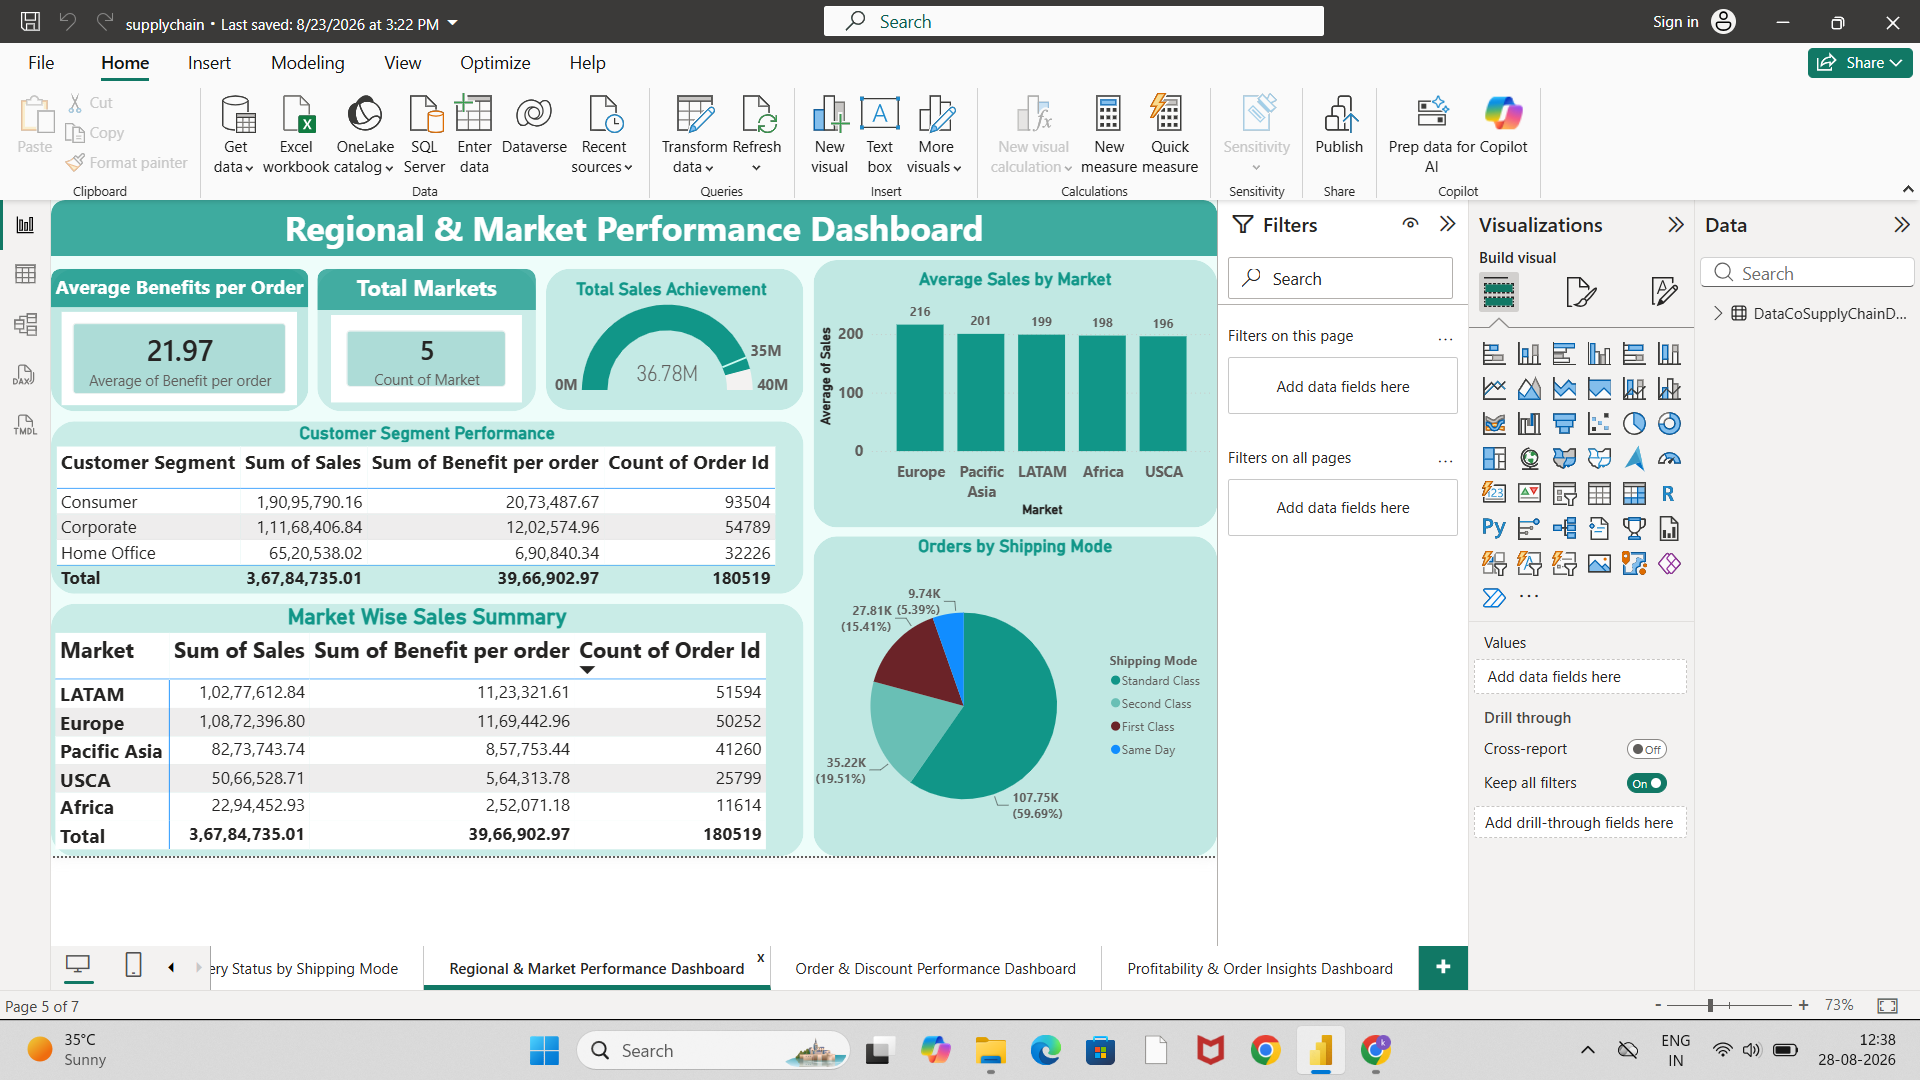

Layout of this report page (visuals, bound fields, positions):
{"tool":"powerbi","page":{"name":"Regional & Market Performance Dashboard","canvas":[1280,720],"ordinal":4},"visuals":[{"type":"shape","box":[0,75.5,282.7,156.4],"z":0},{"type":"shape","box":[0,0,1280.3,61.7],"z":1000},{"type":"textbox","box":[0,0,1280.3,61.7],"z":2000},{"type":"shape","box":[0,75.5,282.7,42.5],"z":3000},{"type":"textbox","box":[0,75.5,282.7,42.5],"z":4000},{"type":"shape","box":[292.3,75.5,240.1,156.4],"z":5000},{"type":"shape","box":[292.3,75.5,240.1,45.3],"z":6000},{"type":"textbox","box":[292.3,75.5,240.1,45.3],"z":7000},{"type":"shape","box":[543.4,75.5,282.7,155.1],"z":8000},{"type":"cardVisual","fields":{"Data":["Avg(DataCoSupplyChainDataset.Benefit per order)"]},"box":[6.9,118,269,112.5],"z":9000},{"type":"cardVisual","fields":{"Data":["Count(DataCoSupplyChainDataset.Market)"]},"box":[307.4,126.2,209.9,96.1],"z":10000},{"type":"gauge","title":"Total Sales Achievement","fields":{"MaxValue":["DataCoSupplyChainDataset.Sales Maximum"],"MinValue":["DataCoSupplyChainDataset.Sales Minimum"],"TargetValue":["DataCoSupplyChainDataset.Sales Target"],"Y":["Sum(DataCoSupplyChainDataset.Sales)"]},"box":[543.4,86.4,275.8,134.5],"z":11000},{"type":"shape","box":[837.1,65.9,443.2,293.7],"z":12000},{"type":"clusteredColumnChart","title":"Average Sales by Market","fields":{"Category":["DataCoSupplyChainDataset.Market"],"Y":["Avg(DataCoSupplyChainDataset.Sales)"]},"box":[837.1,75.5,443.2,277.2],"z":13000},{"type":"shape","box":[837.1,369.1,443.2,351.3],"z":14000},{"type":"pieChart","title":"Orders by Shipping Mode","fields":{"Category":["DataCoSupplyChainDataset.Shipping Mode"],"Y":["CountNonNull(DataCoSupplyChainDataset.Order Id)"]},"box":[837.1,369.1,443.2,351.3],"z":15000},{"type":"shape","box":[0,242.9,826.1,189.4],"z":16000},{"type":"shape","box":[0,443.2,826.1,277.2],"z":17000},{"type":"tableEx","title":"Customer Segment Performance","fields":{"Values":["DataCoSupplyChainDataset.Customer Segment","Sum(DataCoSupplyChainDataset.Sales)","Sum(DataCoSupplyChainDataset.Benefit per order)","CountNonNull(DataCoSupplyChainDataset.Order Id)"]},"box":[0,244.3,826.1,199],"z":18000},{"type":"pivotTable","title":"Market Wise Sales Summary","fields":{"Rows":["DataCoSupplyChainDataset.Market"],"Values":["Sum(DataCoSupplyChainDataset.Sales)","Sum(DataCoSupplyChainDataset.Benefit per order)","CountNonNull(DataCoSupplyChainDataset.Order Id)"]},"box":[0,443.2,826.1,277.2],"z":19000}]}

Visuals, with their boxes on the page's 1280x720 design canvas (x1, y1, x2, y2). These are canvas units, not pixel positions in the 1920x1080 screenshot, which may show the page scaled, cropped or inside an application window:
shape: <box>0,76,283,232</box>
shape: <box>0,0,1280,62</box>
textbox: <box>0,0,1280,62</box>
shape: <box>0,76,283,118</box>
textbox: <box>0,76,283,118</box>
shape: <box>292,76,532,232</box>
shape: <box>292,76,532,121</box>
textbox: <box>292,76,532,121</box>
shape: <box>543,76,826,231</box>
cardVisual - Avg(DataCoSupplyChainDataset.Benefit per order): <box>7,118,276,230</box>
cardVisual - Count(DataCoSupplyChainDataset.Market): <box>307,126,517,222</box>
"Total Sales Achievement" gauge: <box>543,86,819,221</box>
shape: <box>837,66,1280,360</box>
"Average Sales by Market" clusteredColumnChart: <box>837,76,1280,353</box>
shape: <box>837,369,1280,720</box>
"Orders by Shipping Mode" pieChart: <box>837,369,1280,720</box>
shape: <box>0,243,826,432</box>
shape: <box>0,443,826,720</box>
"Customer Segment Performance" tableEx: <box>0,244,826,443</box>
"Market Wise Sales Summary" pivotTable: <box>0,443,826,720</box>
